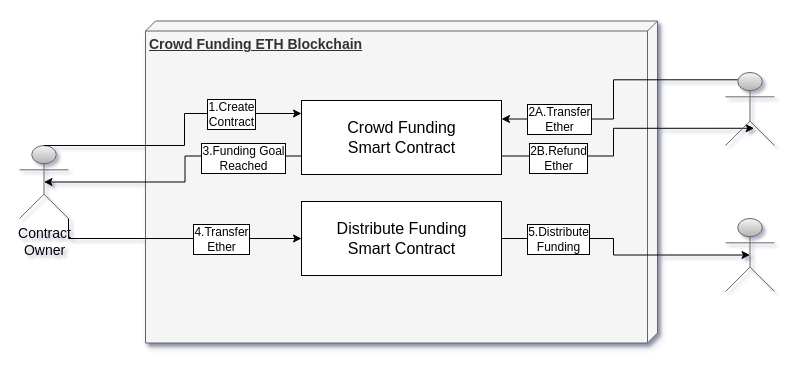
The diagram is 807 pixels wide and 373 high, and some of its shapes have lost their labels. The shapes that lost their labels are listed below. From the top down, each one's centre as x and y in pixels, then its label:
At point (749, 109): "Contract Contributor".
At point (749, 255): "Contract Beneficiary".
